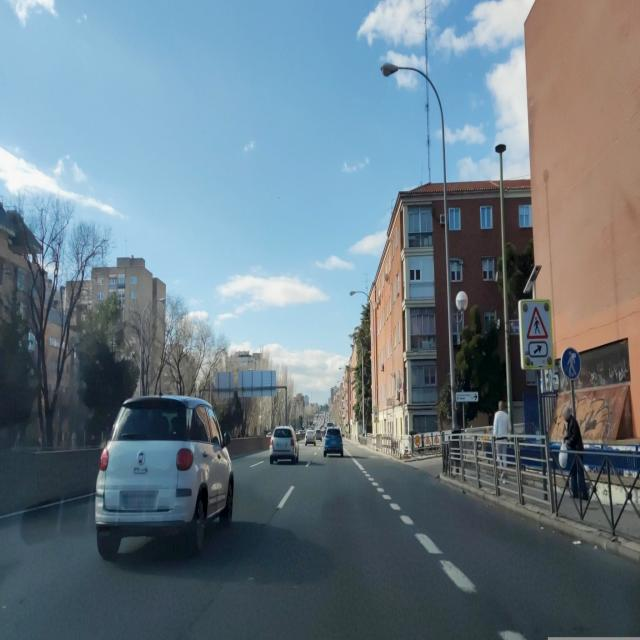car: (94, 392, 234, 559), (269, 425, 299, 464), (323, 427, 344, 458), (304, 427, 316, 447)
